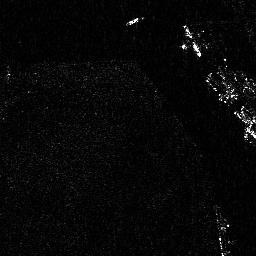ship: (125, 13, 145, 26)
